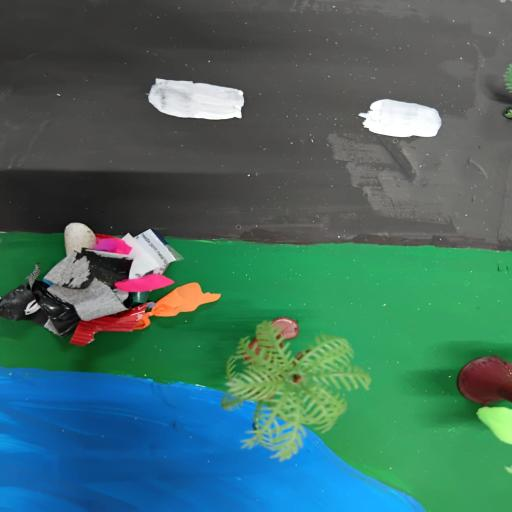trash: (0, 215, 228, 350)
